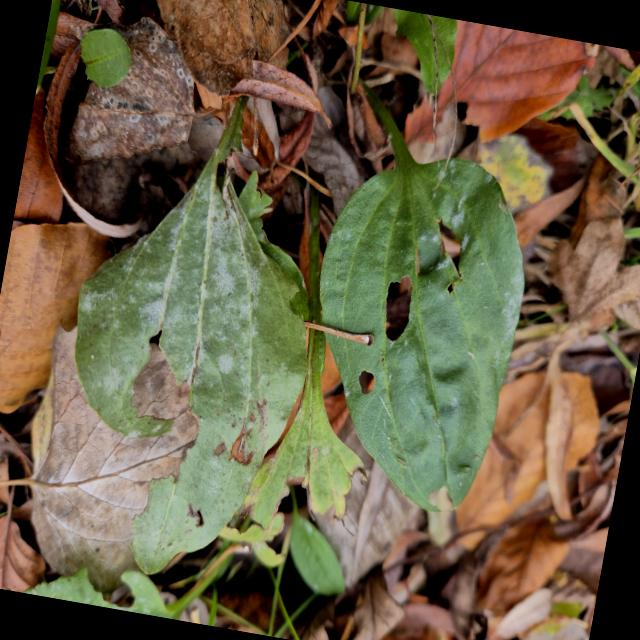powdery_mildew: (75, 111, 305, 573)
